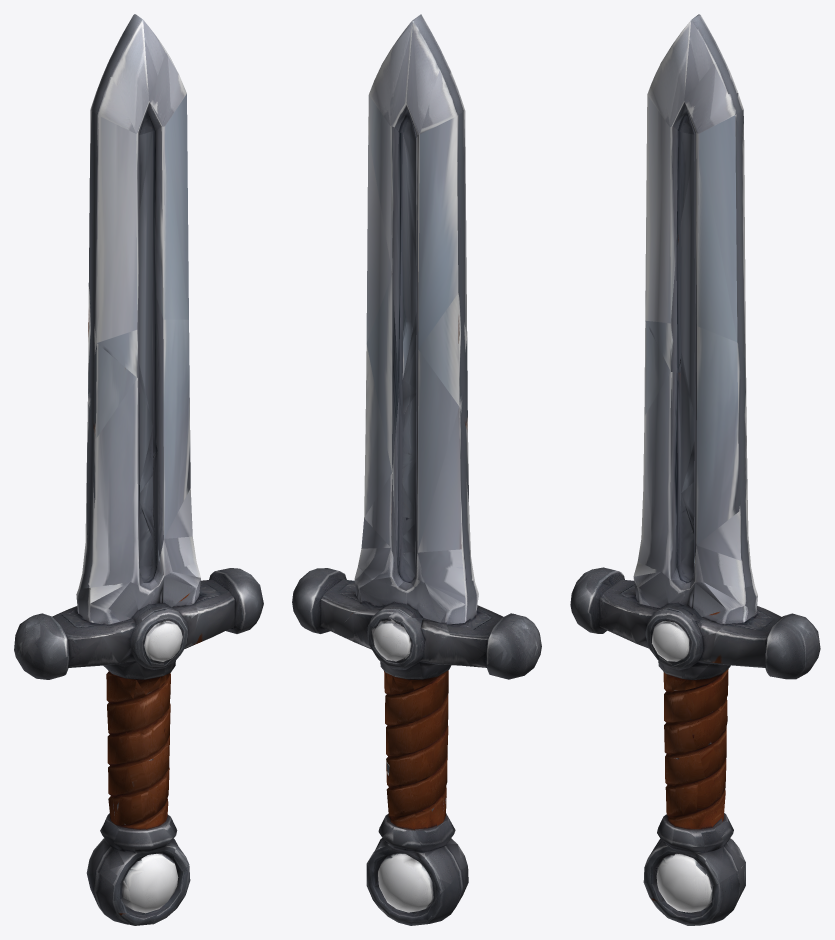
Rendered from ForgeSword.fbx.
The picture shows the model from 3 angles, left to right: view 1: azimuth 30°, elevation 25°; view 2: azimuth 150°, elevation 25°; view 3: azimuth 330°, elevation 25°; orthographic projection.
Visible parts, largest first — view 1: Blade, Guard, Grip; view 2: Blade, Guard, Grip; view 3: Blade, Guard, Grip.
Part boxes in pixels (bbox=[...]): Blade: bbox=[78, 14, 200, 603]; Guard: bbox=[14, 568, 263, 698]; Grip: bbox=[86, 674, 190, 925]; Blade: bbox=[358, 14, 474, 597]; Guard: bbox=[292, 567, 541, 693]; Grip: bbox=[366, 670, 468, 925]; Blade: bbox=[633, 14, 754, 608]; Guard: bbox=[570, 567, 820, 690]; Grip: bbox=[643, 671, 745, 925].
Size of the model in its own units: 1.38 by 5 by 0.5901.
1 material, 1 textured.
